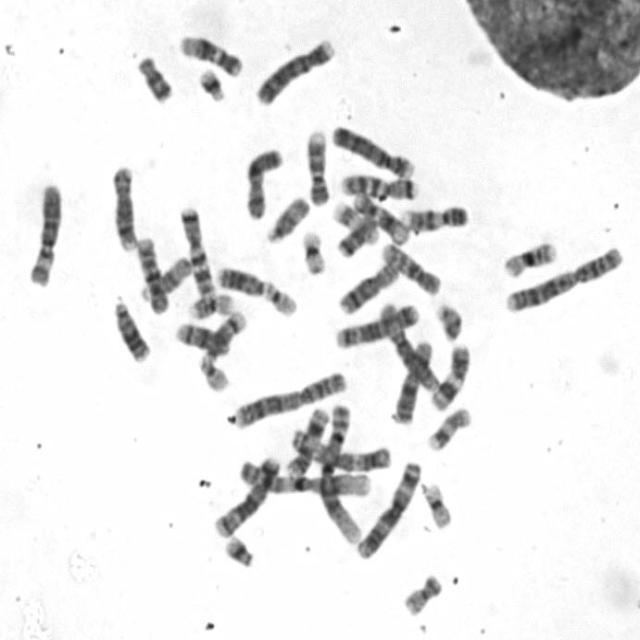A1: (311, 399, 363, 547), (234, 452, 374, 498)
A2: (500, 239, 627, 314), (228, 364, 349, 429)
A3: (353, 454, 424, 560), (286, 423, 394, 472)
B4: (251, 32, 338, 107), (327, 118, 418, 180)
B5: (210, 450, 282, 540), (331, 297, 422, 350)
C10: (375, 237, 444, 297), (132, 231, 172, 315)
C11: (282, 402, 332, 478), (426, 338, 472, 412)
C12: (349, 188, 411, 246), (175, 28, 245, 78)
C6: (374, 295, 441, 394), (22, 176, 64, 288)
C7: (175, 200, 218, 298), (336, 167, 421, 201)
C8: (334, 256, 401, 316), (106, 158, 140, 252)
C9: (398, 198, 470, 234), (303, 124, 331, 206)
D13: (108, 292, 152, 364), (213, 260, 271, 296)
D14: (198, 305, 248, 364), (172, 316, 232, 358)
D15: (137, 252, 195, 302), (262, 190, 312, 244)
E16: (498, 234, 560, 279), (185, 288, 236, 320)
E17: (328, 196, 381, 245), (424, 402, 474, 453)
E18: (132, 49, 175, 104), (332, 211, 380, 259)
F19: (417, 476, 455, 531), (297, 224, 329, 276)
F20: (398, 567, 446, 618), (431, 297, 465, 342)
G21: (220, 529, 258, 569), (194, 62, 228, 102)
G22: (194, 351, 232, 394), (260, 278, 299, 318)
X: (388, 334, 434, 426), (240, 142, 285, 221)
